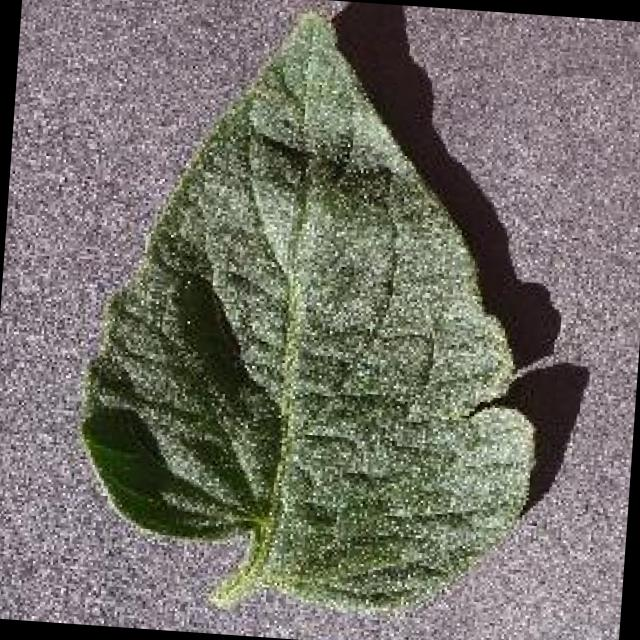Tomato_Healthy: (78, 15, 568, 618)
